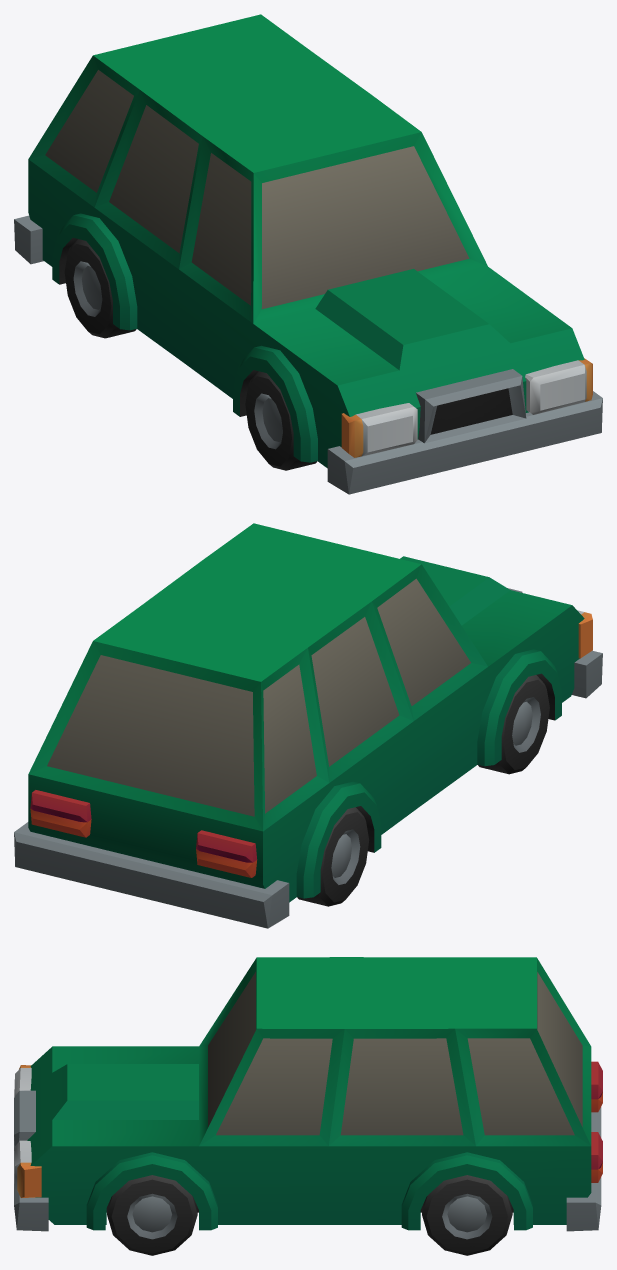
The model's file is city-car-stationwagon.glb.
3 views of the same model, one above another, from view 1: azimuth 30°, elevation 25°; view 2: azimuth 150°, elevation 25°; view 3: azimuth 270°, elevation 25° (orthographic). The views are drawn at different scales.
Parts seen in each view (by area): view 1: car_stationwagon, car_stationwagon_wheel_front_right, car_stationwagon_wheel_rear_right; view 2: car_stationwagon, car_stationwagon_wheel_rear_right, car_stationwagon_wheel_front_right; view 3: car_stationwagon, car_stationwagon_wheel_rear_left, car_stationwagon_wheel_front_left.
Part boxes in pixels (x1,y1,x2,y2): car_stationwagon: (14, 14, 602, 494); car_stationwagon_wheel_front_right: (245, 371, 317, 470); car_stationwagon_wheel_rear_right: (64, 239, 136, 338); car_stationwagon: (14, 523, 602, 928); car_stationwagon_wheel_rear_right: (297, 807, 369, 906); car_stationwagon_wheel_front_right: (478, 675, 549, 774); car_stationwagon: (14, 957, 602, 1231); car_stationwagon_wheel_rear_left: (422, 1175, 512, 1255); car_stationwagon_wheel_front_left: (107, 1175, 197, 1255).
Bounding box in the file's own units: 0.419 × 0.3688 × 0.9381.
